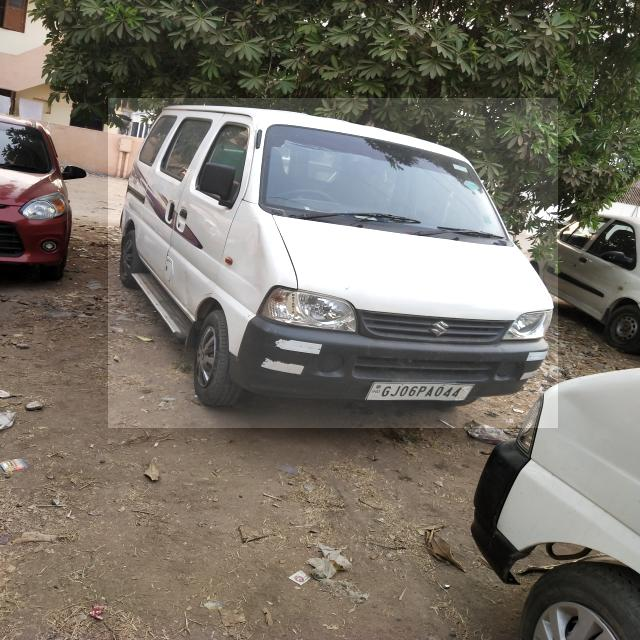Travller: (108, 98, 558, 428)
